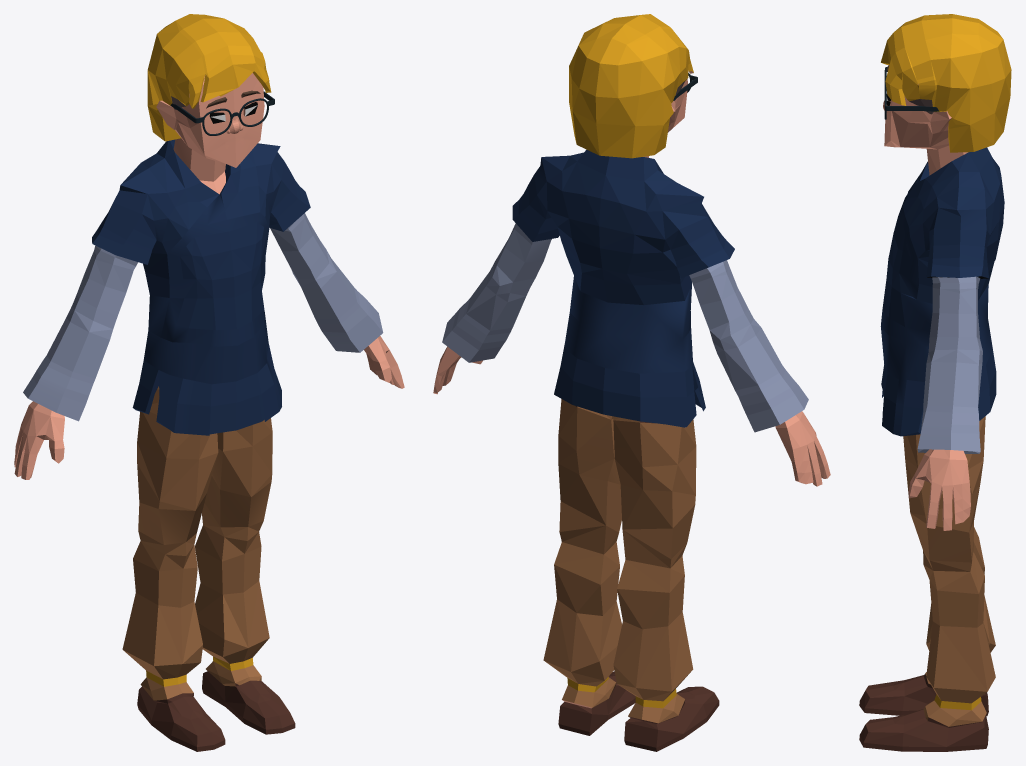
File: XR_model_nörgler.fbx
The picture shows the model from 3 angles, left to right: view 1: azimuth 30°, elevation 25°; view 2: azimuth 150°, elevation 25°; view 3: azimuth 270°, elevation 25°; orthographic projection. The views are drawn at different scales.
Parts seen in each view (by area): view 1: Character_Female_Hotel Owner.001; view 2: Character_Female_Hotel Owner.001; view 3: Character_Female_Hotel Owner.001.
Part boxes in pixels (<box>): Character_Female_Hotel Owner.001: <box>14,14,404,751</box>; Character_Female_Hotel Owner.001: <box>433,14,830,751</box>; Character_Female_Hotel Owner.001: <box>859,14,1011,751</box>.
Size of the model in its own units: 94.55 by 164 by 32.03.
